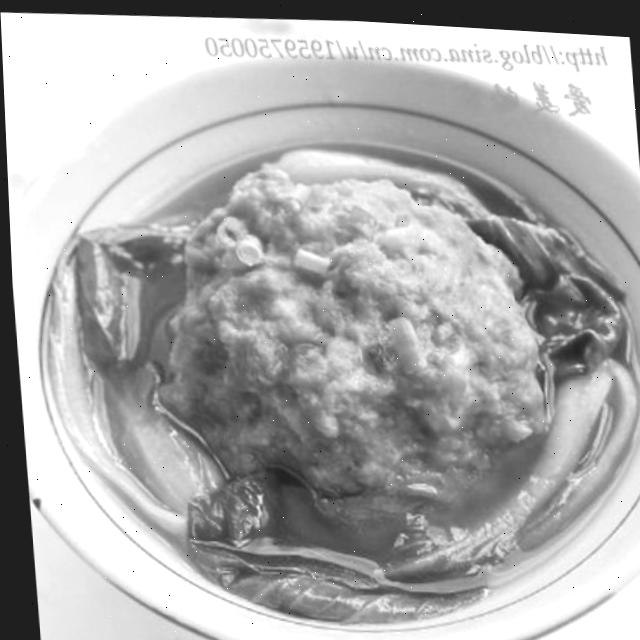猪肉菜式: (9, 89, 640, 630)
